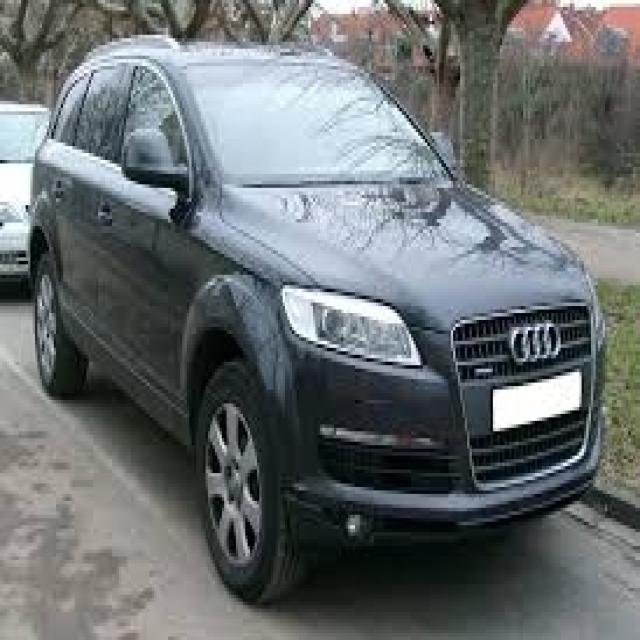black: (31, 43, 562, 558)
